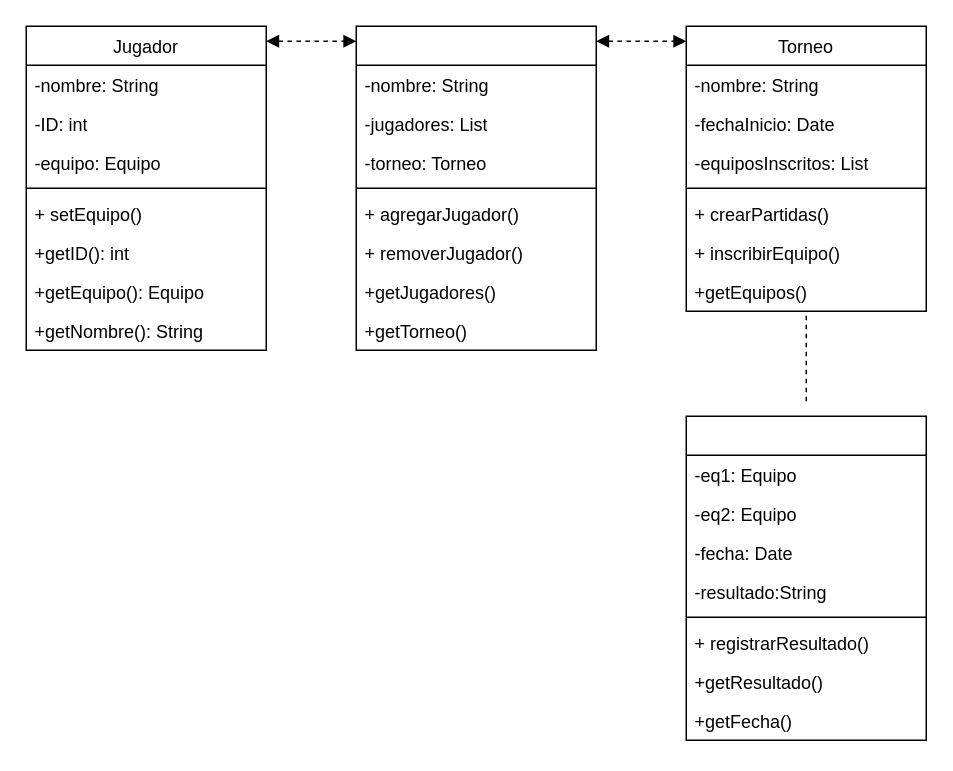
Some shapes in this 953 by 771 pixel diagram are drawn without their labels. Here are the shapes that lost their labels. From the top down, the box of each, then its label:
(355, 25, 596, 350): Equipo
(685, 415, 926, 740): Partida
